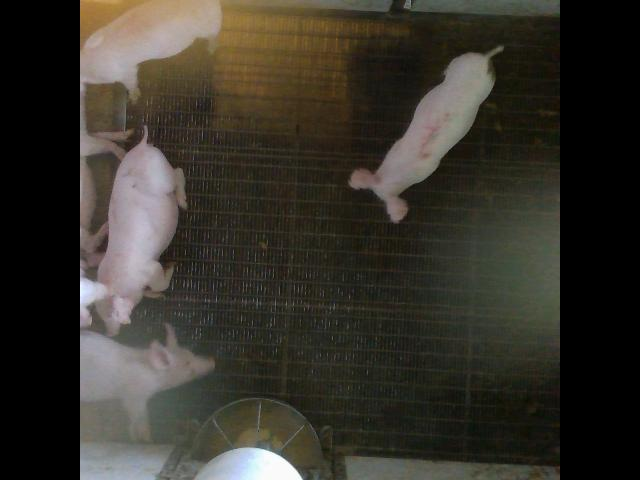pig-4: (82, 0, 219, 100)
pig-5: (349, 45, 504, 221)
